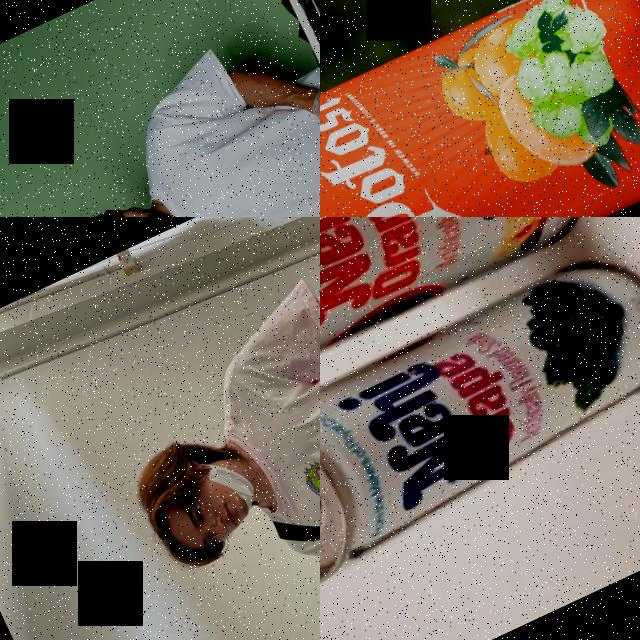can: (320, 225, 640, 609), (320, 0, 640, 217), (320, 217, 628, 430)
